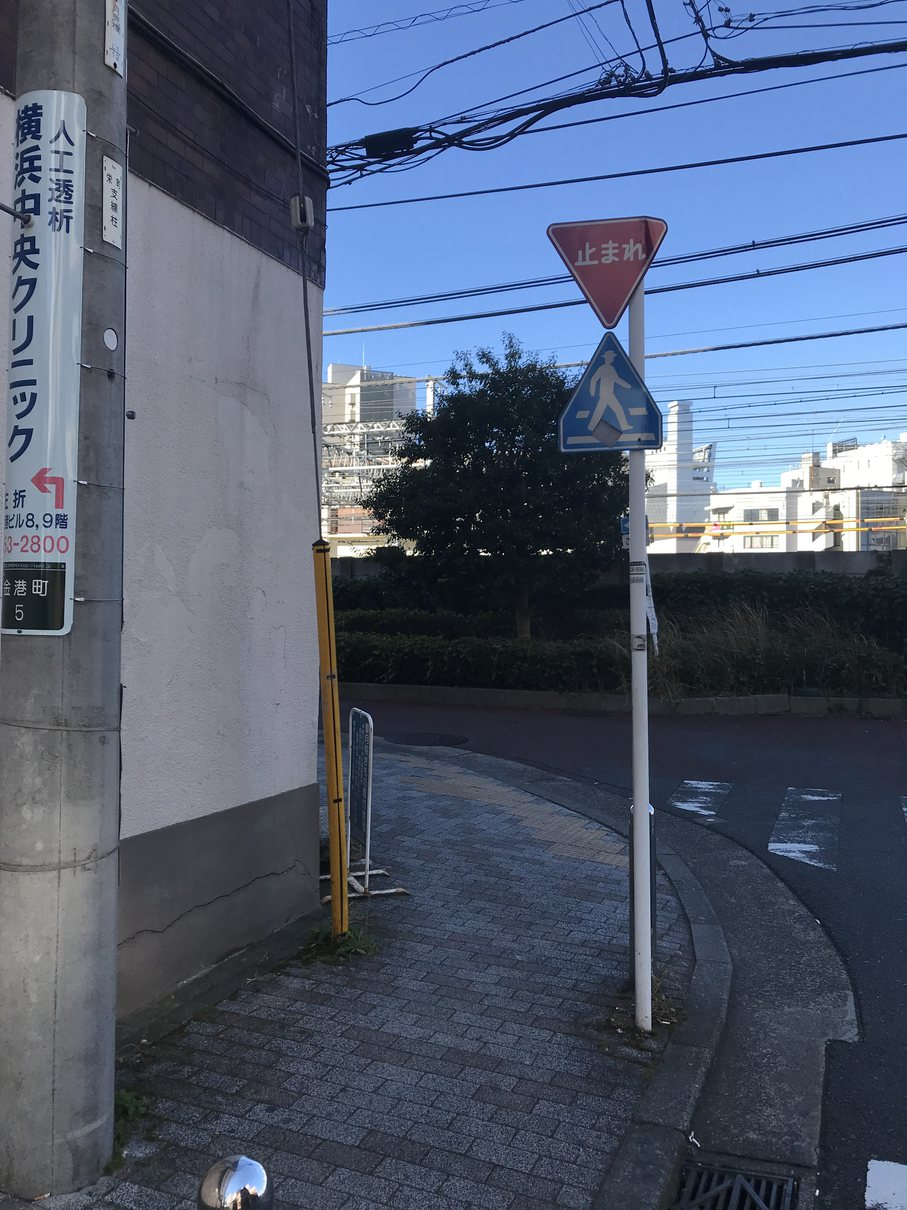stop_sign: (545, 215, 668, 329)
